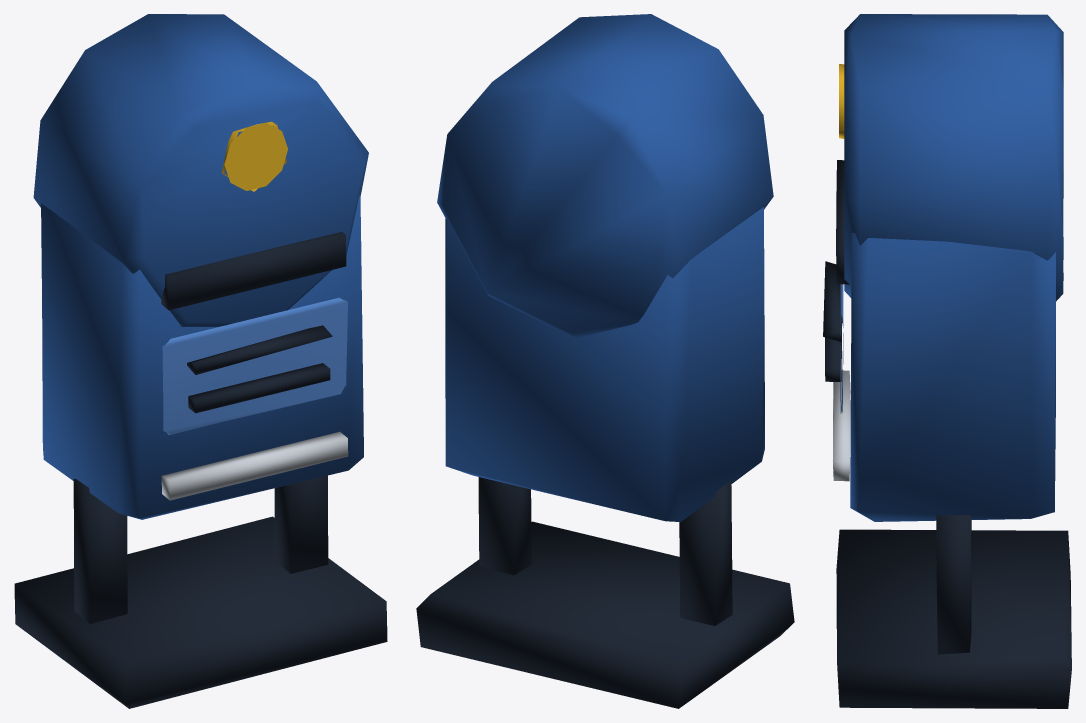
The model's file is lod_street_mailbox.glb.
3 renders of one model, left to right at view 1: azimuth 30°, elevation 25°; view 2: azimuth 150°, elevation 25°; view 3: azimuth 270°, elevation 25°, orthographic. The views are drawn at different scales.
Parts seen in each view (by area): view 1: street_mailbox; view 2: street_mailbox; view 3: street_mailbox.
Part boxes in pixels (x1,y1,x2,y2): street_mailbox: [14, 14, 387, 708]; street_mailbox: [416, 14, 794, 708]; street_mailbox: [823, 14, 1071, 708].
Size of the model in its own units: 0.5802 by 1.24 by 0.4547.
